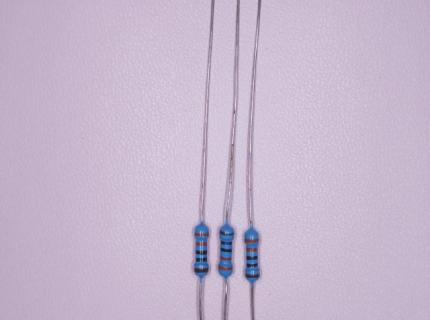Black band: (221, 247, 232, 253), (246, 255, 258, 260), (195, 257, 207, 262), (195, 250, 207, 255), (246, 263, 258, 267), (220, 241, 232, 245)
Brown band: (219, 229, 234, 236), (194, 268, 208, 273), (245, 274, 260, 278)
Orange band: (218, 265, 233, 271), (245, 238, 259, 243), (220, 256, 232, 261), (246, 247, 258, 252), (194, 233, 208, 237), (196, 242, 207, 246)
